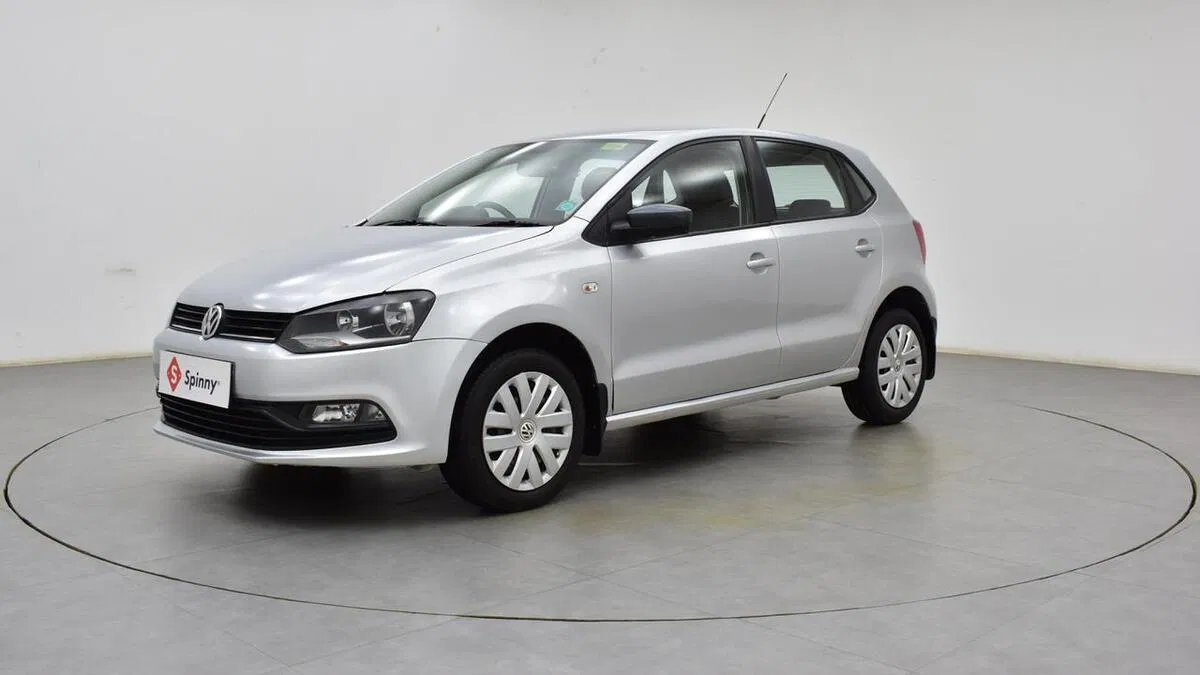car: (144, 121, 949, 514)
